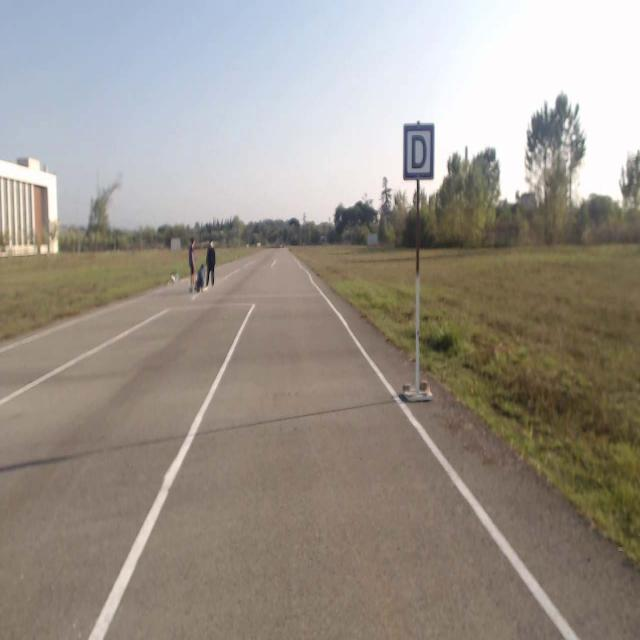durak: (404, 124, 433, 178)
